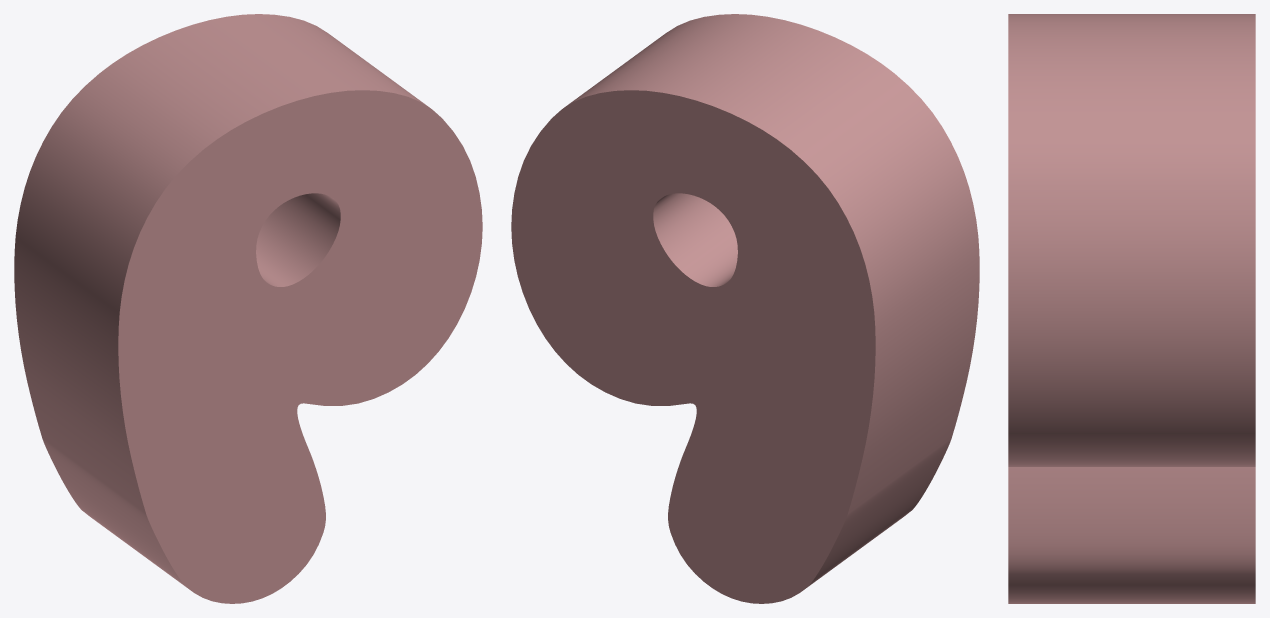
File: small-p.fbx
3 views of the same model, side by side, from view 1: azimuth 30°, elevation 25°; view 2: azimuth 150°, elevation 25°; view 3: azimuth 270°, elevation 25° (orthographic). The views are drawn at different scales.
Parts seen in each view (by area): view 1: small_p; view 2: small_p; view 3: small_p.
Boxes of the visible parts, left/top/right/bottom form: small_p: left=14, top=14, right=482, bottom=603; small_p: left=511, top=14, right=979, bottom=603; small_p: left=1008, top=14, right=1255, bottom=603.
Bounding box in the file's own units: 5.05 × 6.5 × 2.5.
